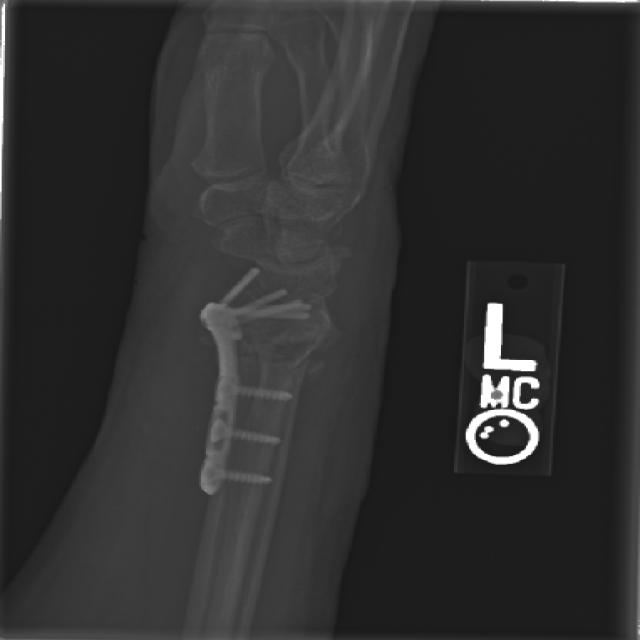fingers positive: (164, 297, 367, 388)
